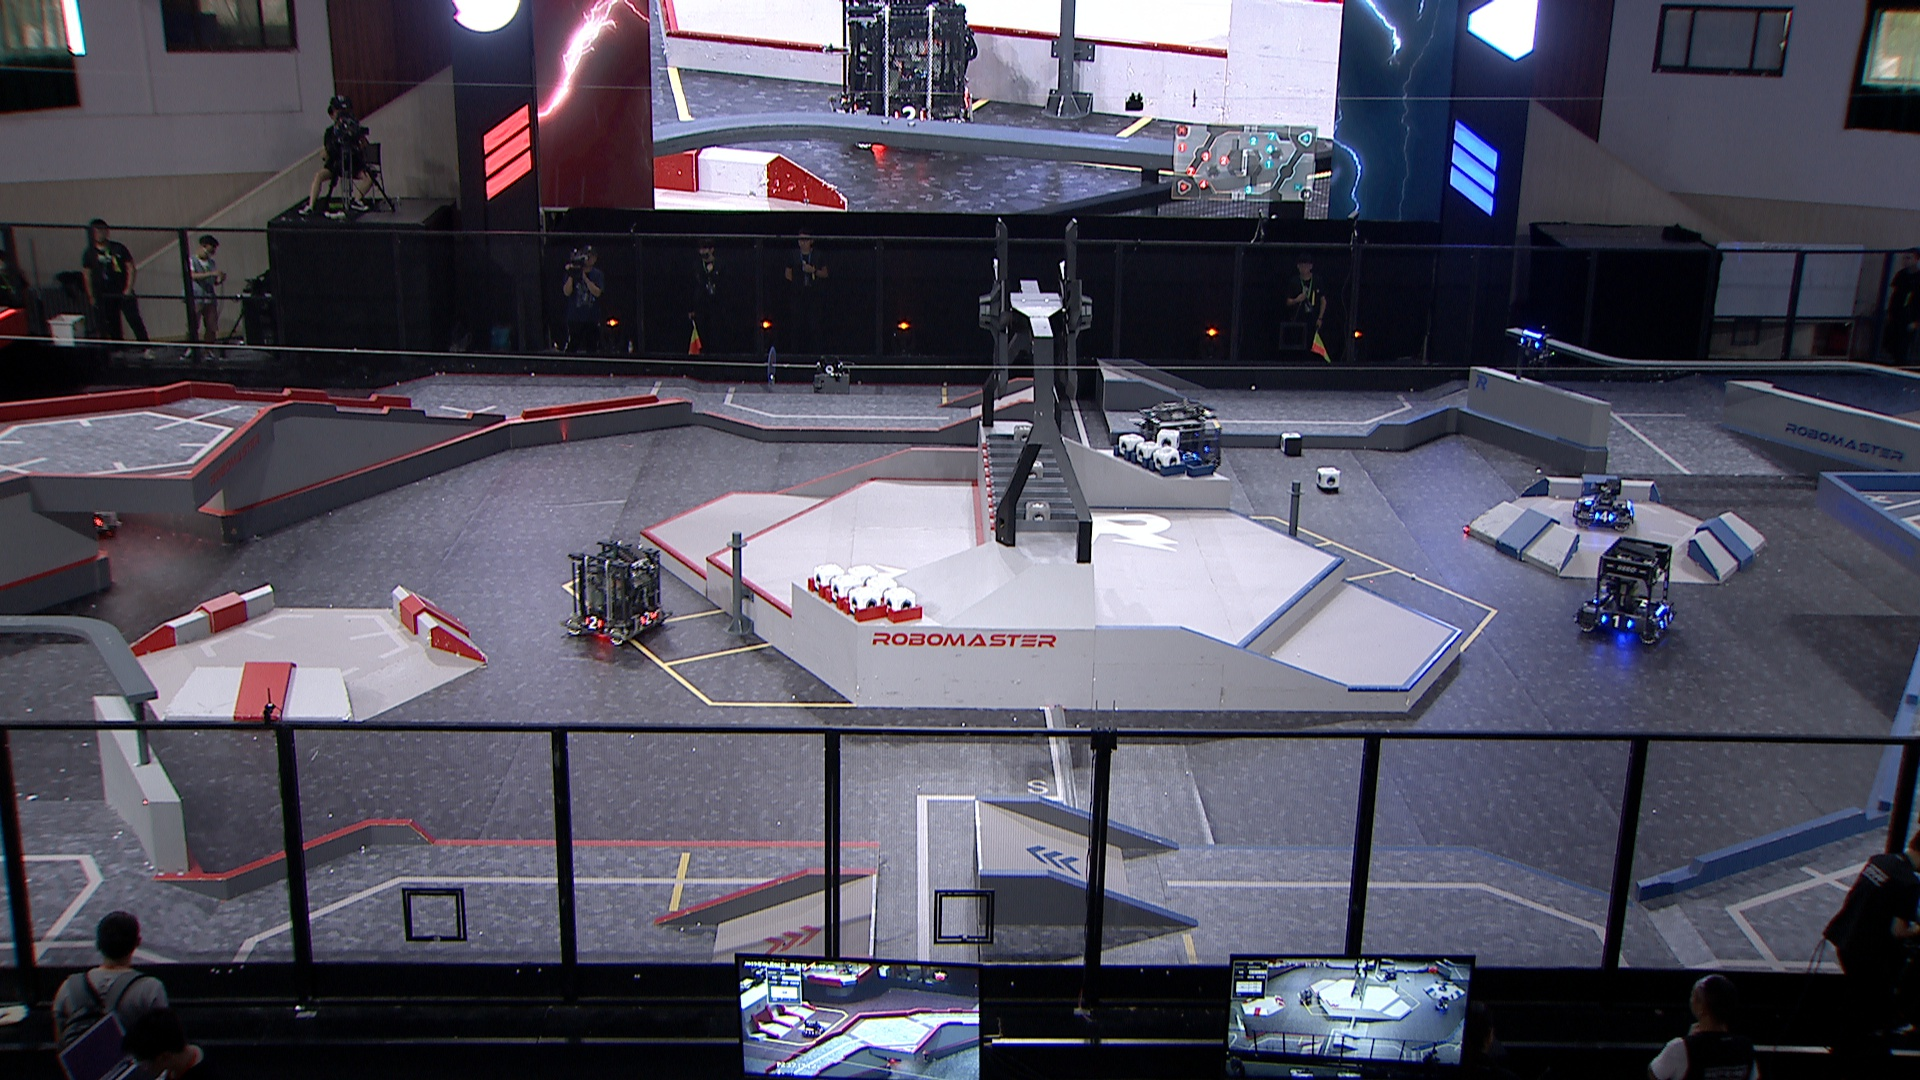armor: (1600, 613, 1634, 632), (1516, 335, 1542, 349), (583, 615, 604, 632), (637, 611, 657, 628), (1593, 509, 1615, 524), (1656, 612, 1673, 629)
car: (558, 541, 673, 647), (1571, 537, 1677, 646), (1135, 400, 1224, 476), (1572, 479, 1636, 533)
ignore: (822, 0, 978, 149)
watcher: (1514, 324, 1556, 367)
